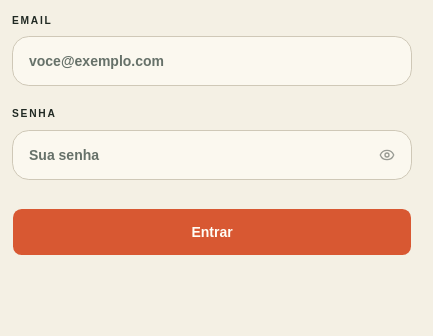
Test: LoginForm › exibe os erros e não envia credenciais inválidas
Type "email-invalido" into the field labelled "Email" at [212, 61], box [13,37,411,85]
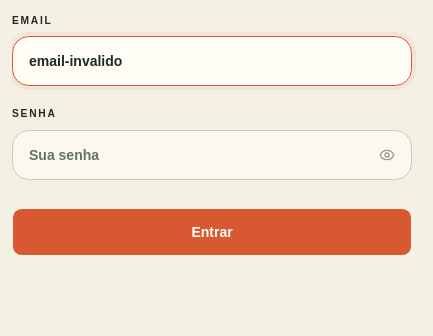
Type "123456" into the password field labelled "Senha" at [212, 155], box [13,131,411,179]
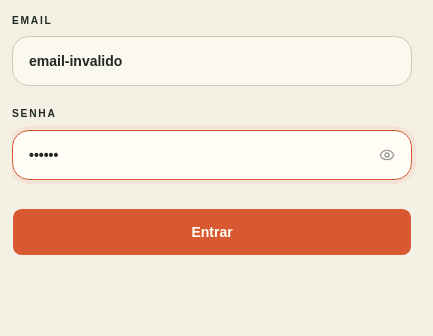
Click the button "Entrar" at [212, 232], box [12,208,412,256]
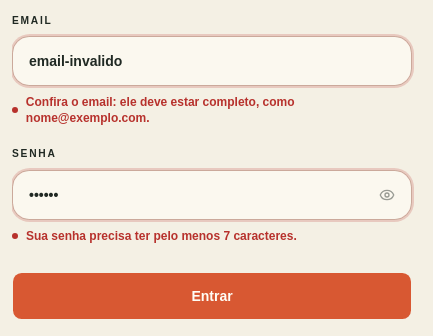
Now the text "Confira o email: ele deve estar completo, como nome@exemplo.com." is shown, box [12,95,295,125]
Now the text "Sua senha precisa ter pelo menos 7 caracteres." is shown, box [12,229,297,243]
